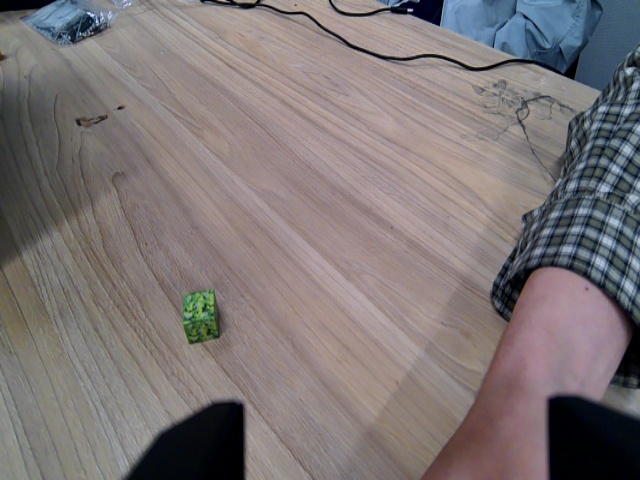grass: (178, 290, 222, 344)
